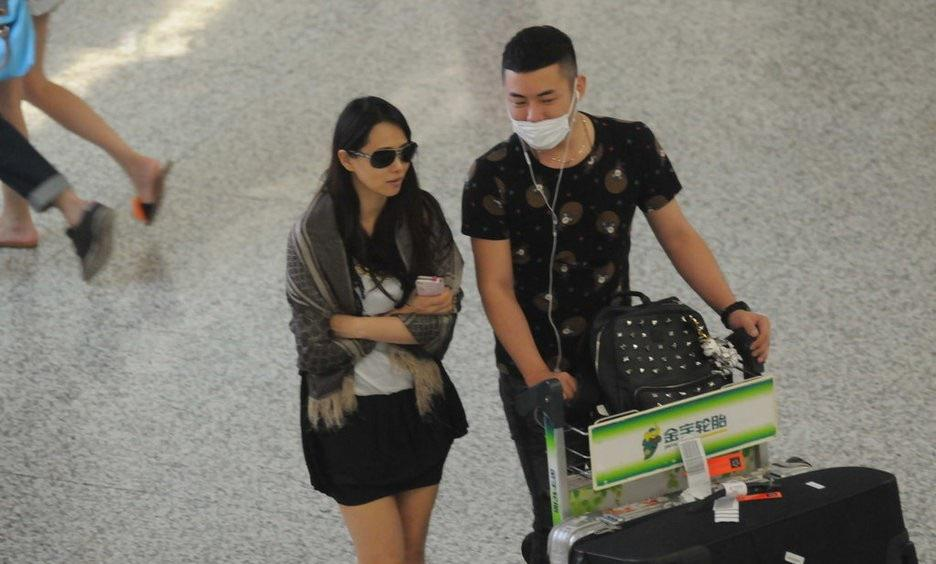NONE: (354, 134, 418, 201)
WRONG: (507, 87, 570, 150)
